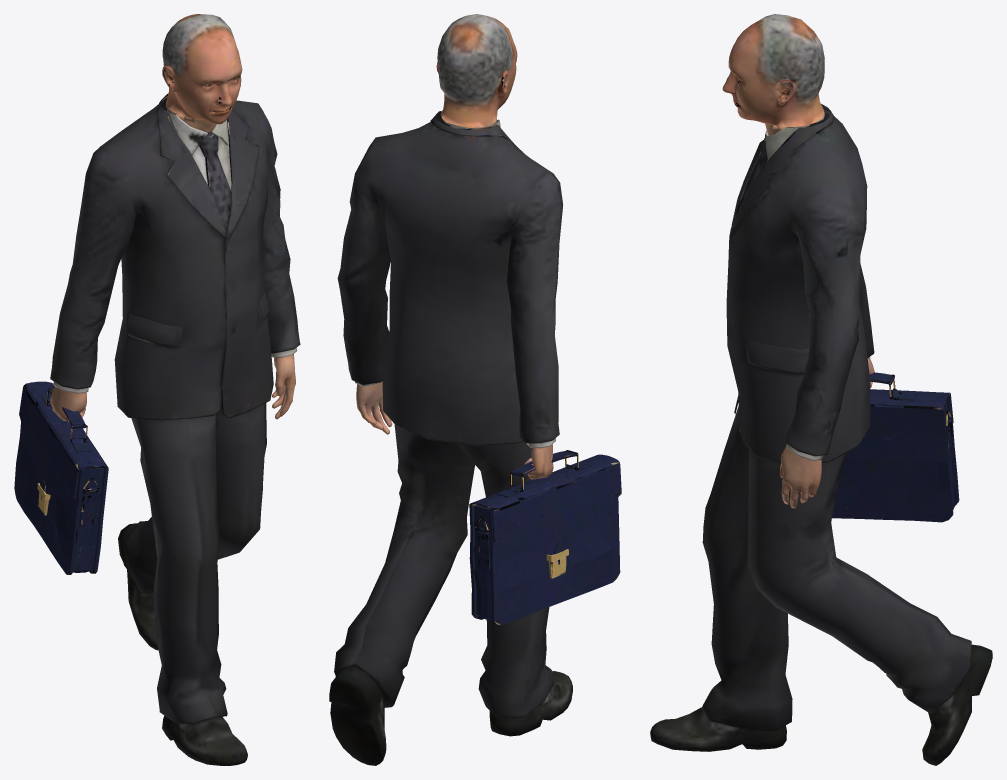
The picture shows the model from 3 angles, left to right: view 1: azimuth 30°, elevation 25°; view 2: azimuth 150°, elevation 25°; view 3: azimuth 270°, elevation 25°; orthographic projection. The views are drawn at different scales.
Visible parts, largest first — view 1: p04814; view 2: p04814; view 3: p04814.
Boxes of the visible parts, x1,y1,x2,y2 form: p04814: (14,14,300,765); p04814: (329,14,621,765); p04814: (650,14,992,765).
Size of the model in its own units: 0.6223 by 1.69 by 0.7129.
Materials: 1 (1 with a texture image).
